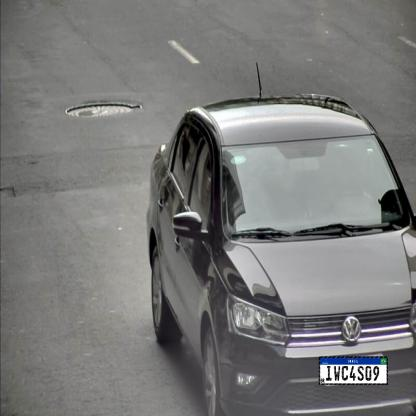PlacaM: (319, 356, 388, 385)
